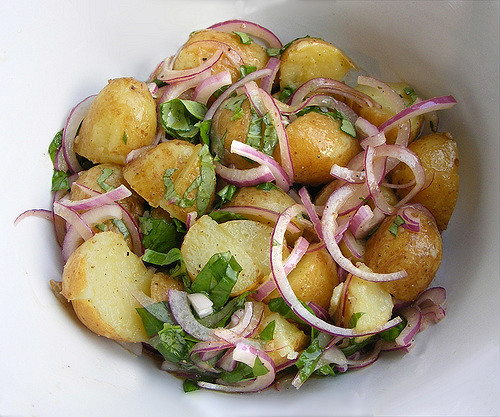boiled potatoes: (137, 145, 268, 270), (364, 200, 447, 302), (282, 47, 337, 102)
